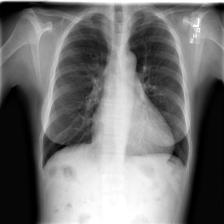normal: (38, 10, 192, 177)
